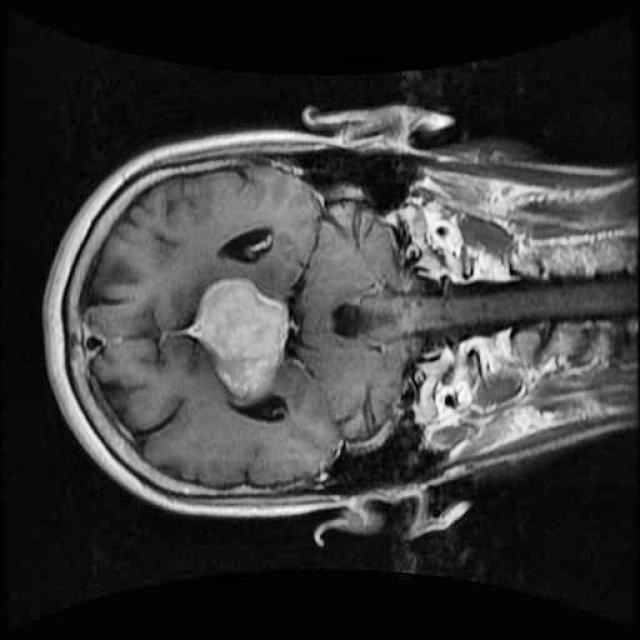Tumor: (161, 260, 320, 415)
